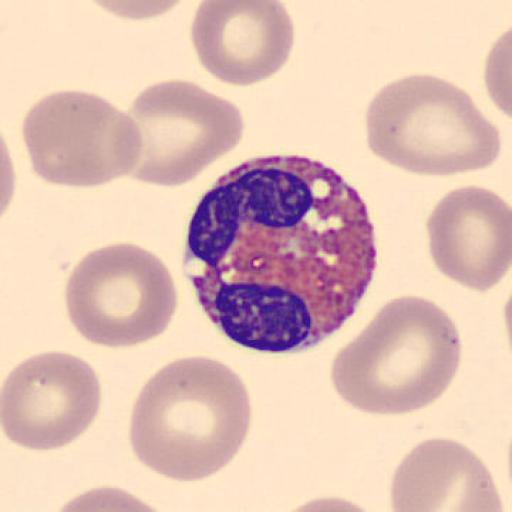RBC: (330, 292, 464, 416), (128, 354, 252, 484), (364, 72, 502, 179), (122, 78, 245, 188), (63, 241, 179, 350), (21, 89, 144, 189), (2, 348, 103, 453), (424, 184, 512, 294), (189, 0, 295, 87), (388, 434, 504, 512), (44, 484, 179, 512), (483, 23, 512, 123), (80, 0, 194, 21), (446, 474, 505, 512), (271, 493, 385, 512), (0, 130, 17, 220), (502, 280, 512, 367)
WBC: (184, 154, 378, 355)
